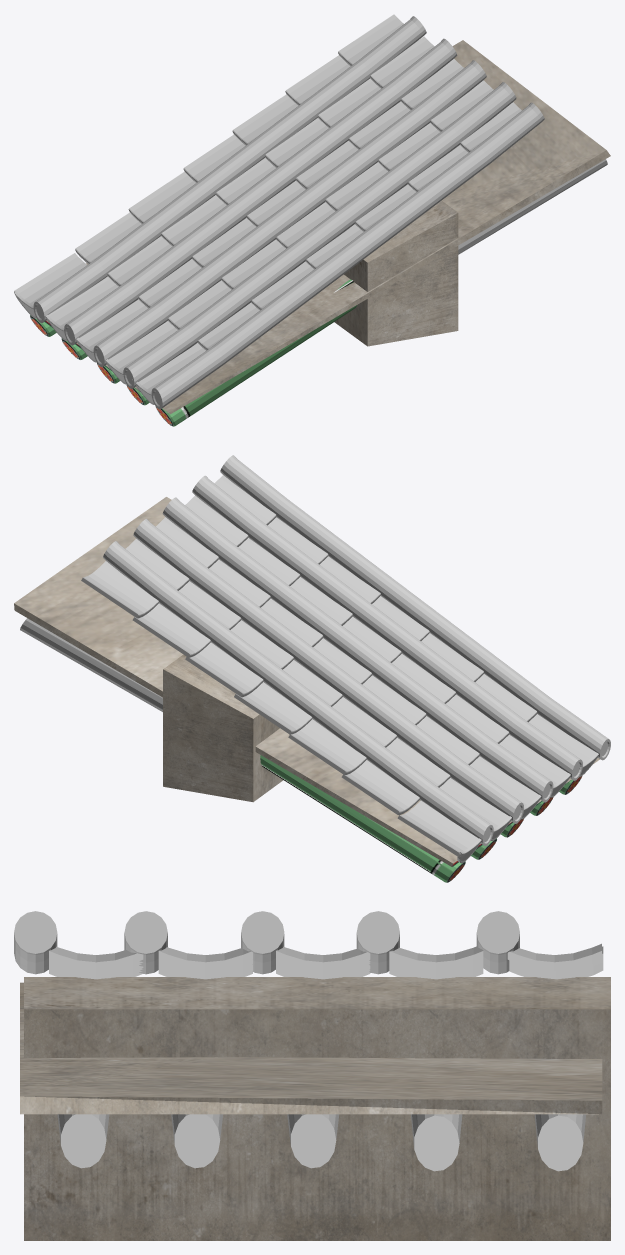
Rendered from SM_Roof_31.fbx.
The picture shows the model from 3 angles, top to bottom: view 1: azimuth 30°, elevation 25°; view 2: azimuth 150°, elevation 25°; view 3: azimuth 270°, elevation 25°; orthographic projection. The views are drawn at different scales.
Parts seen in each view (by area): view 1: SM_Roof_31; view 2: SM_Roof_31; view 3: SM_Roof_31.
Part boxes in pixels (<box>): SM_Roof_31: <box>14,14,610,426</box>; SM_Roof_31: <box>14,455,610,882</box>; SM_Roof_31: <box>14,911,610,1240</box>.
Bounding box in the file's own units: 366 × 209 × 186.
